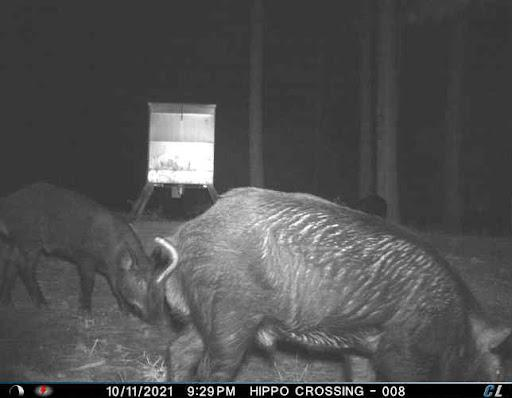Hog: (149, 184, 512, 382), (0, 180, 180, 334)
